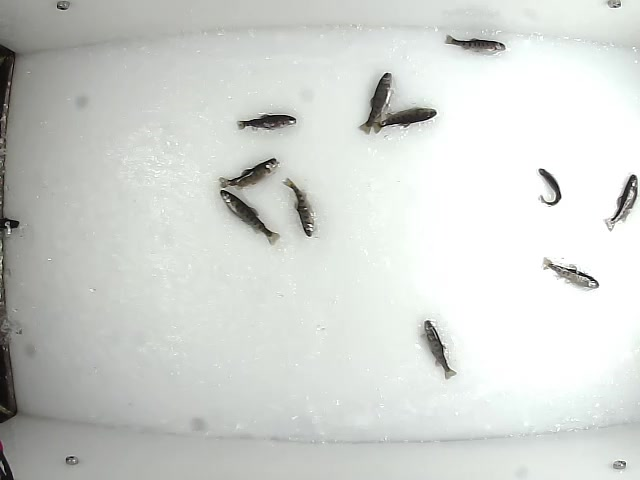fish: (218, 188, 282, 247), (356, 69, 395, 136), (216, 152, 281, 189), (422, 319, 459, 381), (280, 175, 316, 238), (542, 255, 601, 291), (603, 171, 638, 231), (371, 106, 439, 136), (234, 111, 298, 136), (442, 33, 506, 57), (536, 165, 565, 209)
